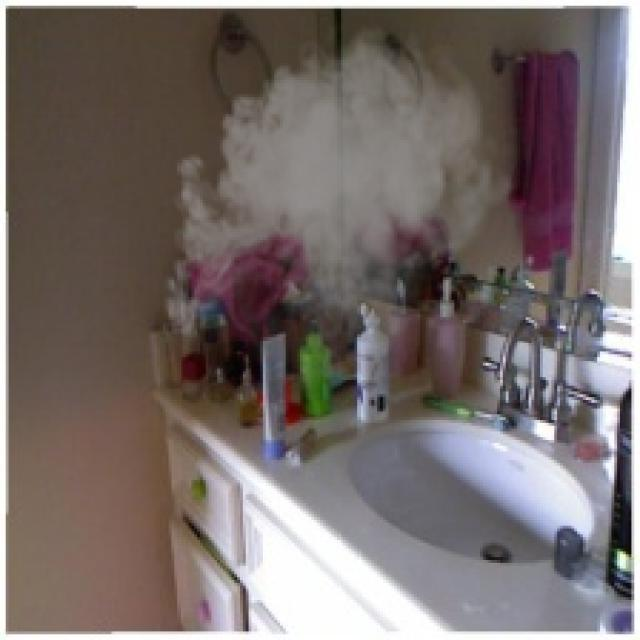smoke: (154, 14, 517, 403)
